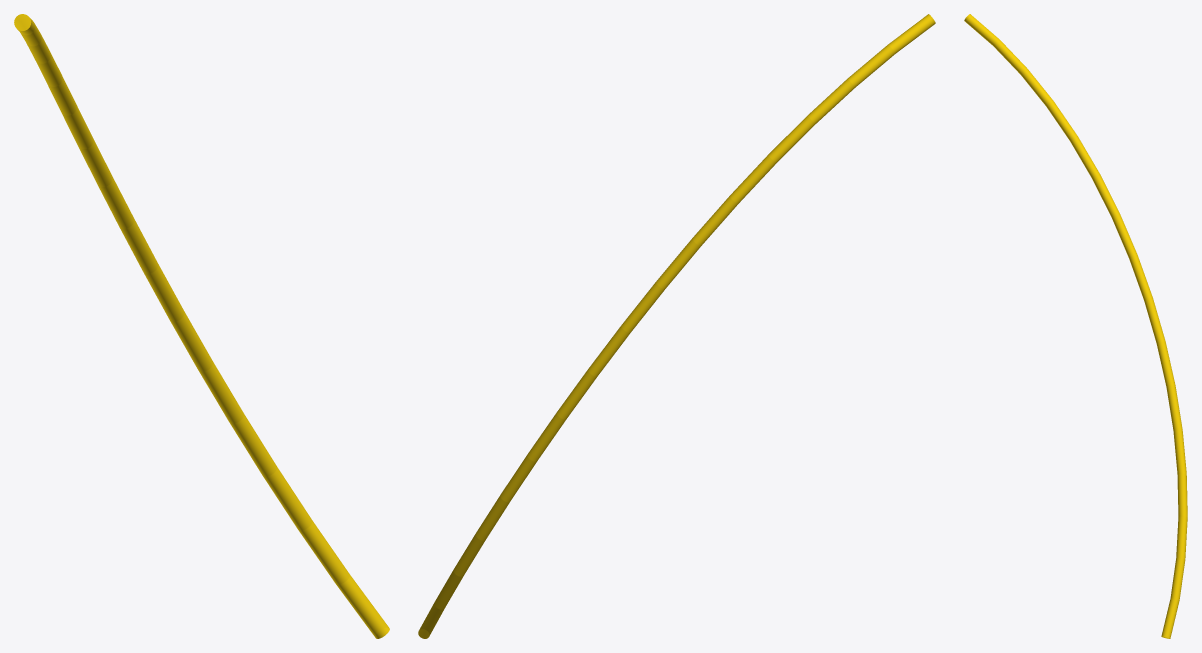
File: Event_420094457_track_22.fbx
3 views of the same model, side by side, from view 1: azimuth 30°, elevation 25°; view 2: azimuth 150°, elevation 25°; view 3: azimuth 270°, elevation 25° (orthographic). The views are drawn at different scales.
Parts seen in each view (by area): view 1: Model; view 2: Model; view 3: Model.
Boxes of the visible parts, x1,y1,x2,y2 form: Model: (14, 14, 389, 638); Model: (418, 14, 935, 638); Model: (964, 14, 1187, 638).
Size of the model in its own units: 1.5 by 2.29 by 0.9601.
